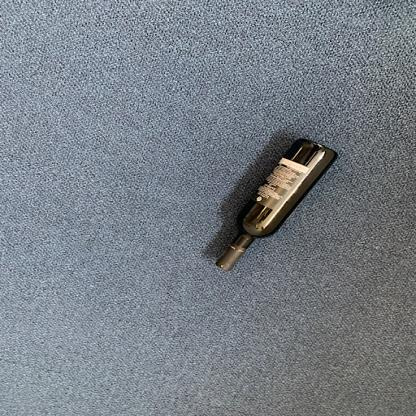trash: (212, 135, 340, 274)
